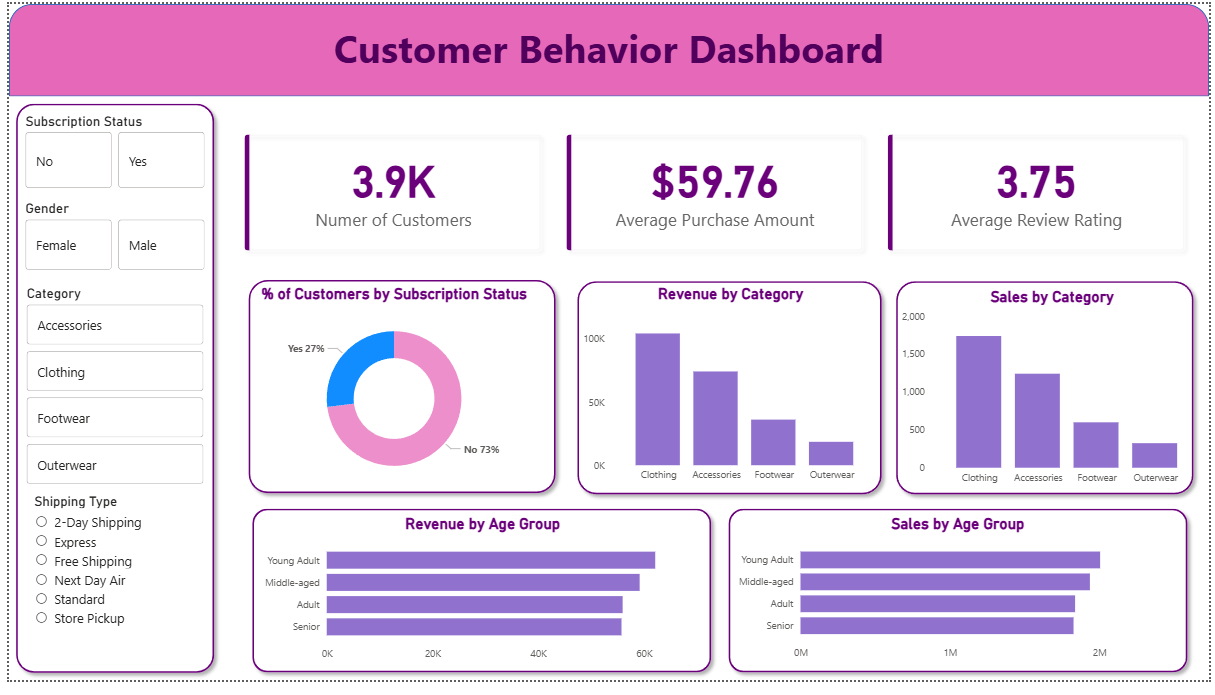

Layout of this report page (visuals, bound fields, positions):
{"tool":"powerbi","page":{"name":"Page 1","canvas":[1500,845],"ordinal":0},"visuals":[{"type":"cardVisual","fields":{"Data":["public customer.Numer of Customers","public customer.Average Purchase Amount","public customer.Average Review Rating"]},"box":[265.5,134.5,1234.5,203.4],"z":0},{"type":"shape","box":[0,0,1500,115.5],"z":1000},{"type":"textbox","box":[367.2,17.2,765.5,82.8],"z":2000},{"type":"shape","box":[291.4,336.2,401.7,284.5],"z":3000},{"type":"donutChart","title":"% of Customers by Subscription Status","fields":{"Category":["public customer.subscription_status"],"Y":["CountNonNull(public customer.customer_id)"]},"box":[294.8,351.7,372.4,258.6],"z":4000},{"type":"shape","box":[701.7,337.9,398.3,284.5],"z":5000},{"type":"shape","box":[1100,337.9,389.7,284.5],"z":6000},{"type":"clusteredColumnChart","title":"Revenue by Category","fields":{"Y":["Sum(public customer.purchase_amount)"],"Category":["public customer.category"]},"box":[712.1,351.7,379.3,255.2],"z":7000},{"type":"clusteredColumnChart","title":"Sales by Category","fields":{"Y":["CountNonNull(public customer.customer_id)"],"Category":["public customer.category"]},"box":[1110.3,355.2,386.2,255.2],"z":8000},{"type":"shape","box":[0,115.5,265.5,729.3],"z":9000},{"type":"advancedSlicerVisual","fields":{"Values":["public customer.subscription_status"]},"box":[15.5,136.2,234.5,100],"z":10000},{"type":"advancedSlicerVisual","fields":{"Values":["public customer.gender"]},"box":[15.5,244.8,234.5,93.1],"z":11000},{"type":"advancedSlicerVisual","fields":{"Values":["public customer.category"]},"box":[17.2,351.7,231,255.2],"z":12000},{"type":"listSlicer","fields":{"Values":["public customer.shipping_type"]},"box":[25.9,610.3,213.8,220.7],"z":13000},{"type":"shape","box":[294.8,622.4,591.4,222.4],"z":14000},{"type":"clusteredBarChart","title":"Revenue by Age Group","fields":{"Y":["Sum(public customer.purchase_amount)"],"Category":["public customer.age_group"]},"box":[308.6,639.7,565.5,191.4],"z":15000},{"type":"shape","box":[891.4,622.4,591.4,222.4],"z":16000},{"type":"clusteredBarChart","title":"Sales by Age Group","fields":{"Y":["Sum(public customer.customer_id)"],"Category":["public customer.age_group"]},"box":[901.7,639.7,569,189.7],"z":17000}]}

Visuals, with their boxes in screenshot pixels (x1, y1, x2, y2), scaled from the page's 1500x845 canvas onto the 1215x695 screenshot:
cardVisual - public customer.Numer of Customers x public customer.Average Purchase Amount: x1=215, y1=111, x2=1214, y2=278
shape: x1=0, y1=0, x2=1214, y2=95
textbox: x1=297, y1=14, x2=917, y2=82
shape: x1=236, y1=277, x2=561, y2=511
"% of Customers by Subscription Status" donutChart: x1=239, y1=289, x2=540, y2=502
shape: x1=568, y1=278, x2=891, y2=512
shape: x1=891, y1=278, x2=1207, y2=512
"Revenue by Category" clusteredColumnChart: x1=577, y1=289, x2=884, y2=499
"Sales by Category" clusteredColumnChart: x1=899, y1=292, x2=1212, y2=502
shape: x1=0, y1=95, x2=215, y2=694
advancedSlicerVisual - public customer.subscription_status: x1=13, y1=112, x2=202, y2=194
advancedSlicerVisual - public customer.gender: x1=13, y1=201, x2=202, y2=278
advancedSlicerVisual - public customer.category: x1=14, y1=289, x2=201, y2=499
listSlicer - public customer.shipping_type: x1=21, y1=502, x2=194, y2=683
shape: x1=239, y1=512, x2=718, y2=694
"Revenue by Age Group" clusteredBarChart: x1=250, y1=526, x2=708, y2=684
shape: x1=722, y1=512, x2=1201, y2=694
"Sales by Age Group" clusteredBarChart: x1=730, y1=526, x2=1191, y2=682
